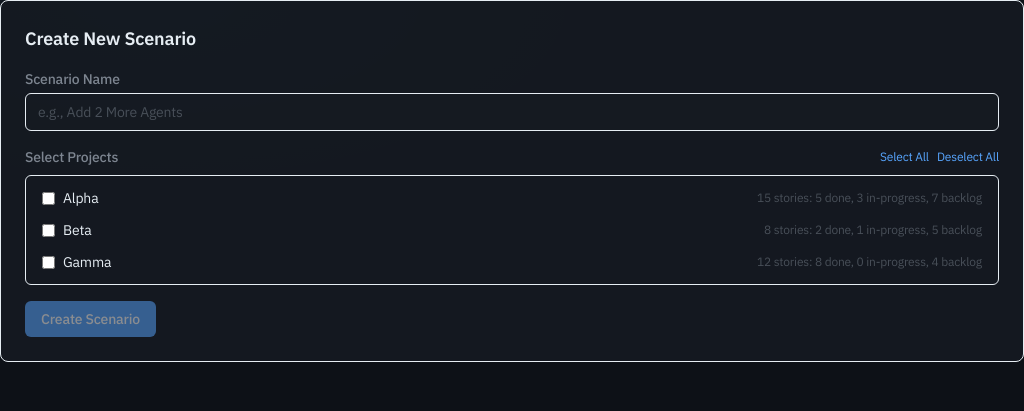
ScenarioCreator › shows error message when API fails
This screenshot has width=1024, height=411.
Type "Test" into the field labelled "Scenario Name" at [512, 112], box [25, 93, 999, 131]
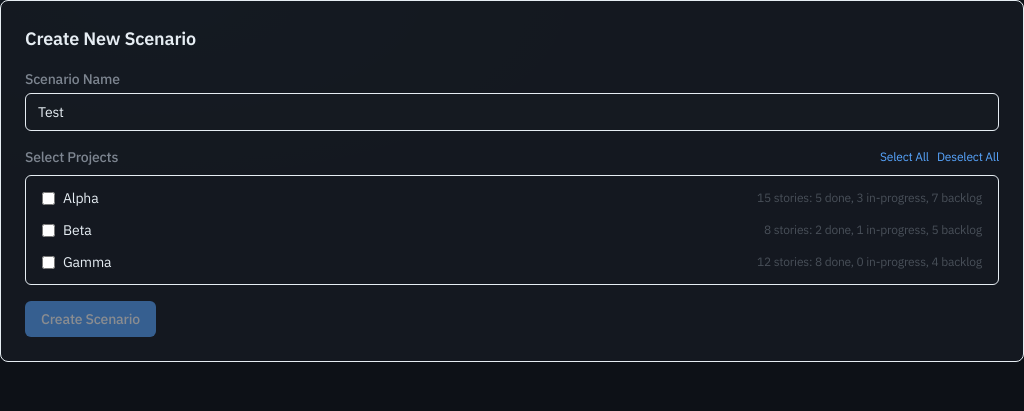
Click the text "Alpha" at [81, 198], box [63, 188, 98, 208]
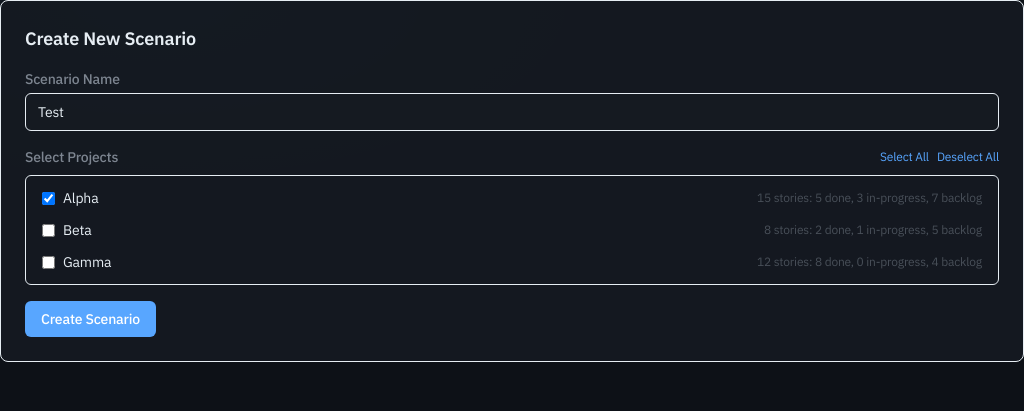
Click the button "Create Scenario" at [90, 319], box [25, 301, 156, 337]
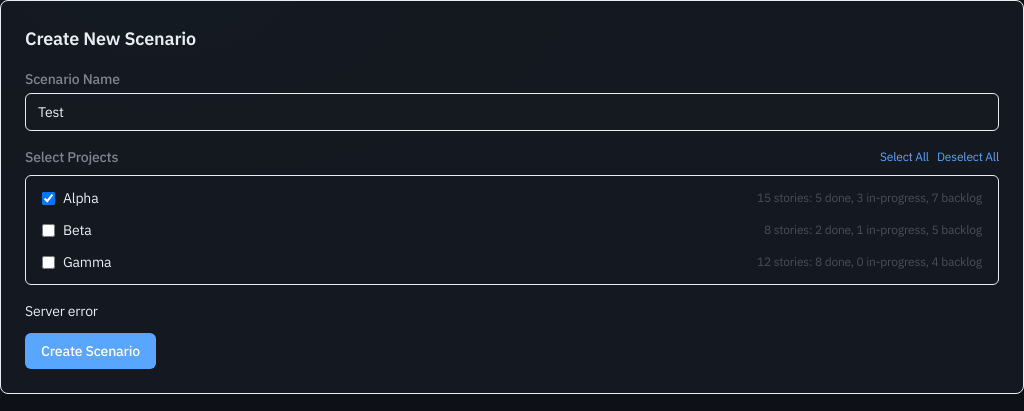
Now the text "Server error" is shown, box [25, 302, 98, 320]
